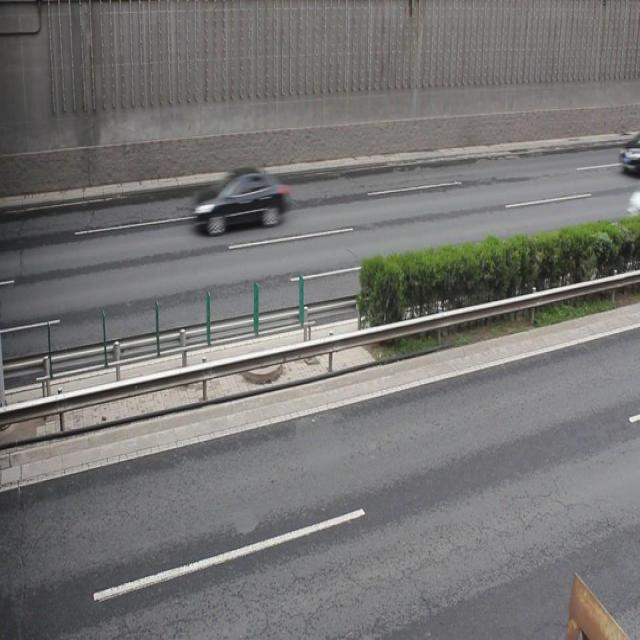car: (190, 166, 288, 233)
